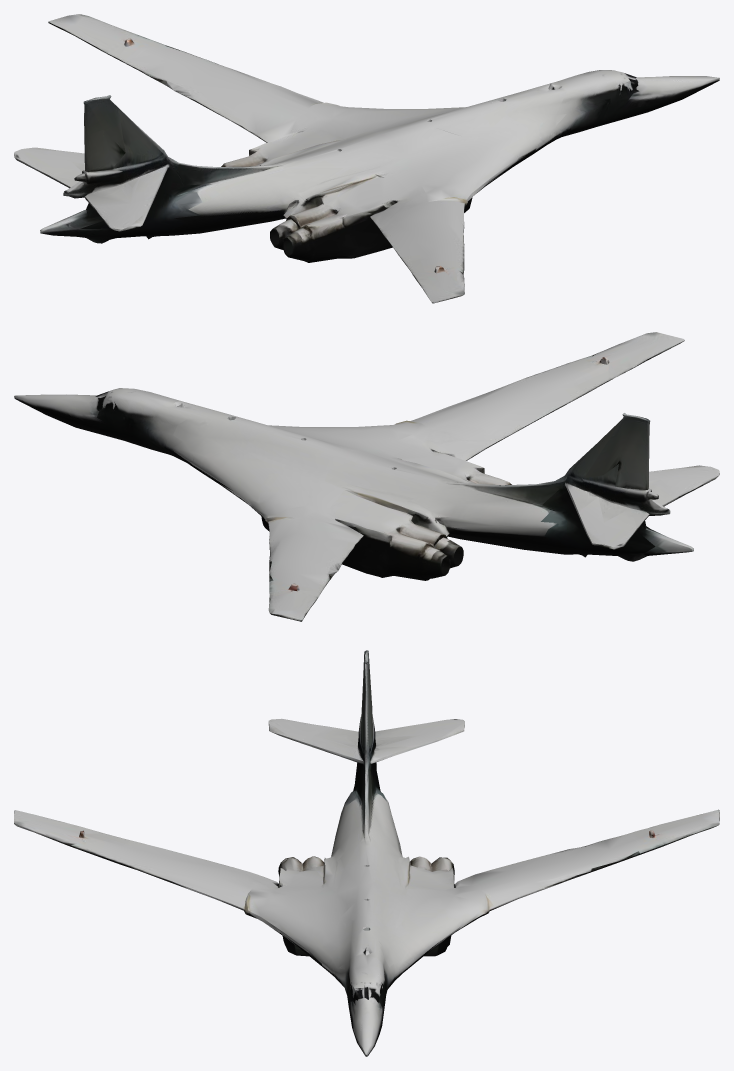
3 renders of one model, top to bottom at view 1: azimuth 30°, elevation 25°; view 2: azimuth 150°, elevation 25°; view 3: azimuth 270°, elevation 25°, orthographic. The views are drawn at different scales.
Visible parts, largest first — view 1: hull, wingL, wingR, finR, stabR, engR, stabL, pilot; view 2: hull, wingR, wingL, finL, stabL, engL, stabR, pilot; view 3: hull, wingR, wingL, stabR, stabL, pilot, finR, finL.
Part boxes in pixels (x1=…): hull: x1=40, y1=75, x2=719, y2=255; wingL: x1=48, y1=14, x2=362, y2=142; wingR: x1=370, y1=182, x2=482, y2=303; finR: x1=63, y1=95, x2=212, y2=198; stabR: x1=85, y1=165, x2=167, y2=231; engR: x1=270, y1=216, x2=363, y2=262; stabL: x1=14, y1=147, x2=84, y2=188; pilot: x1=576, y1=70, x2=641, y2=101; hull: x1=14, y1=392, x2=693, y2=574; wingR: x1=371, y1=332, x2=684, y2=460; wingL: x1=251, y1=500, x2=363, y2=621; finL: x1=517, y1=413, x2=670, y2=515; stabL: x1=566, y1=484, x2=649, y2=549; engL: x1=370, y1=540, x2=463, y2=580; stabR: x1=649, y1=465, x2=719, y2=506; pilot: x1=95, y1=388, x2=149, y2=414; hull: x1=274, y1=762, x2=459, y2=1056; wingR: x1=14, y1=810, x2=273, y2=929; wingL: x1=460, y1=809, x2=719, y2=929; stabR: x1=268, y1=718, x2=362, y2=765; stabL: x1=371, y1=719, x2=464, y2=763; pilot: x1=348, y1=964, x2=384, y2=1001; finR: x1=353, y1=650, x2=368, y2=796; finL: x1=366, y1=650, x2=381, y2=798.
Bounding box in the file's own units: 35.7 × 9 × 34.96.
1 material, 1 textured.
